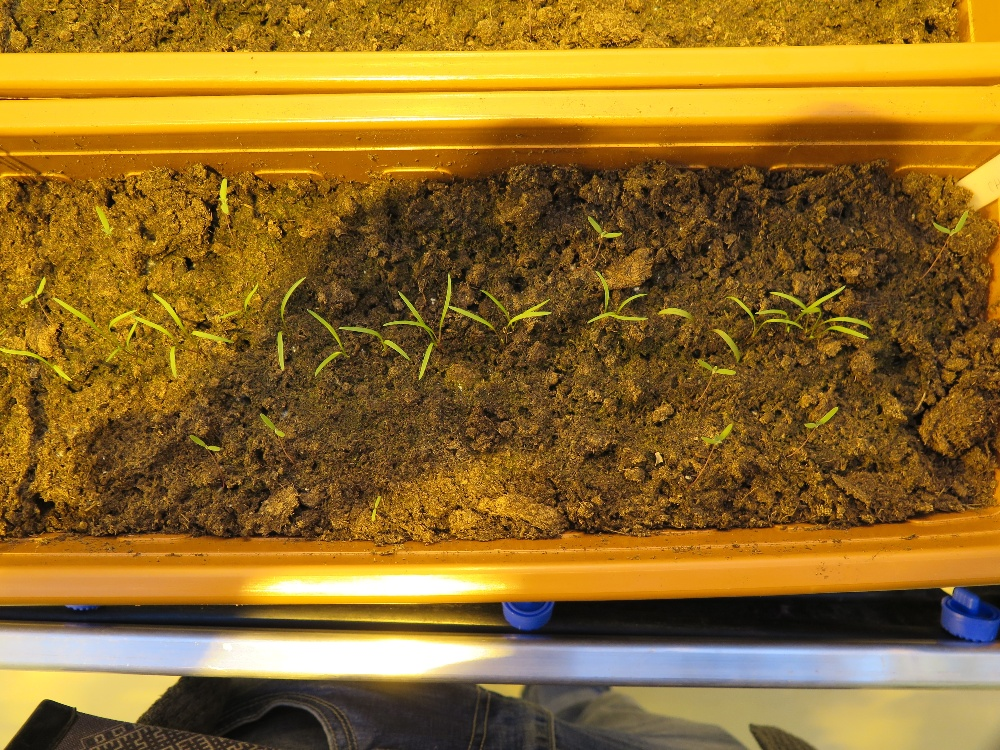crop: (382, 281, 466, 383), (227, 272, 312, 372), (121, 295, 205, 386), (150, 288, 259, 358), (650, 297, 750, 370), (573, 270, 666, 347), (448, 290, 559, 347), (293, 301, 371, 376), (802, 297, 882, 363), (1, 331, 84, 392), (55, 288, 143, 342), (734, 295, 818, 347), (766, 276, 843, 331), (334, 320, 412, 372), (16, 265, 66, 324)
weed: (248, 408, 307, 458), (925, 197, 973, 258), (191, 436, 246, 486), (77, 201, 125, 254), (687, 417, 737, 463), (798, 399, 843, 449), (698, 356, 743, 395), (212, 174, 243, 220), (359, 488, 391, 526)
